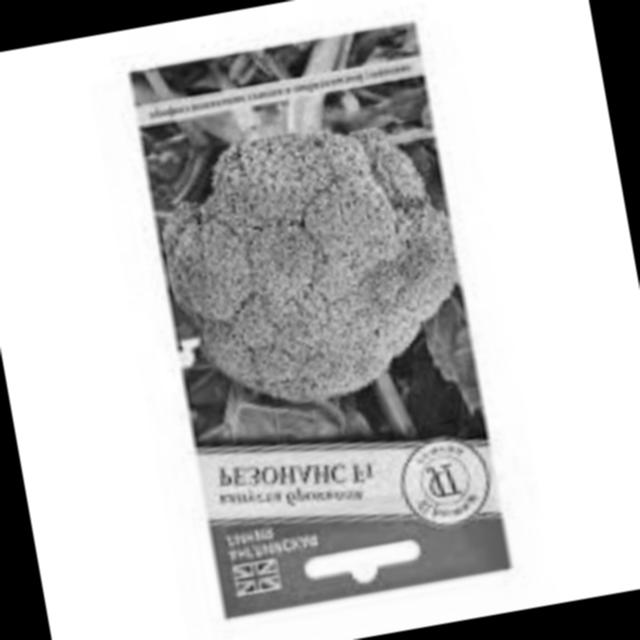bong cai xanh: (153, 96, 524, 436)
